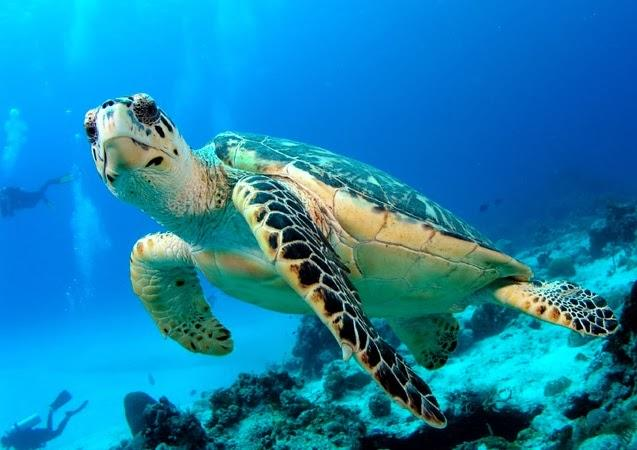turtle: (73, 84, 191, 214)
